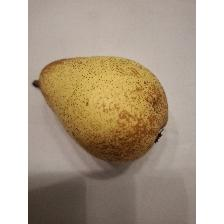Birne: (32, 55, 170, 167)
